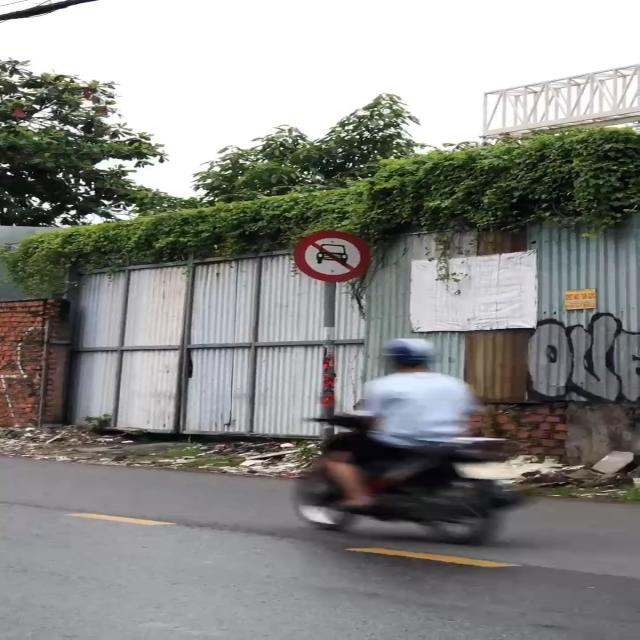Bien bao cam xe oto: (293, 225, 376, 285)
